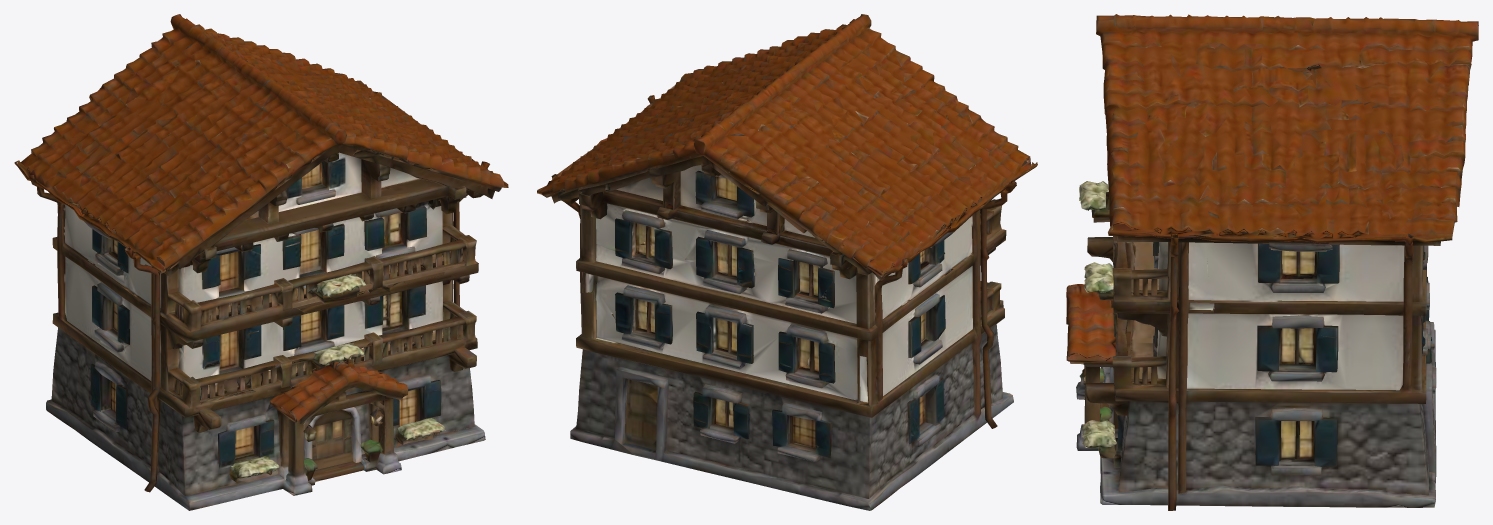
The picture shows the model from 3 angles, left to right: view 1: azimuth 30°, elevation 25°; view 2: azimuth 150°, elevation 25°; view 3: azimuth 270°, elevation 25°; orthographic projection. The views are drawn at different scales.
Visible parts, largest first — view 1: alpine__hotel_3__native_mobile; view 2: alpine__hotel_3__native_mobile; view 3: alpine__hotel_3__native_mobile.
Part boxes in pixels (x1,y1,x2,y2): alpine__hotel_3__native_mobile: (14, 14, 508, 510); alpine__hotel_3__native_mobile: (537, 14, 1037, 510); alpine__hotel_3__native_mobile: (1066, 14, 1478, 510).
Size of the model in its own units: 1 by 0.923 by 0.8432.
Materials: 1 (1 with a texture image).
